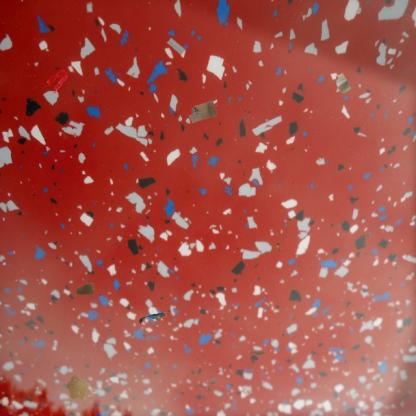dirty: (187, 99, 219, 125), (334, 72, 352, 96), (166, 36, 186, 57), (138, 311, 166, 324), (74, 281, 96, 296)
liquid: (66, 374, 96, 405), (46, 68, 68, 94)
